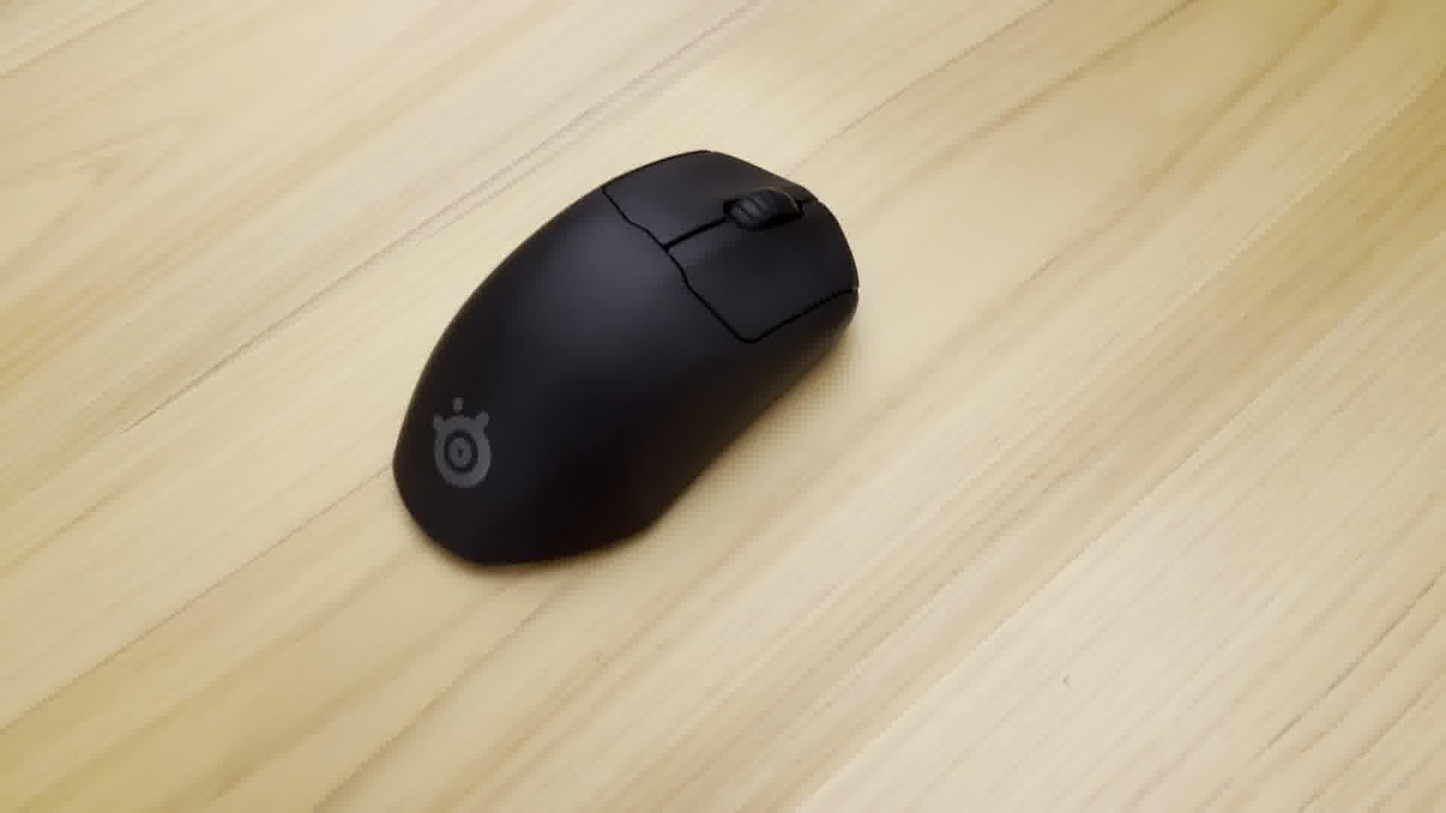mouse: (385, 139, 869, 585)
